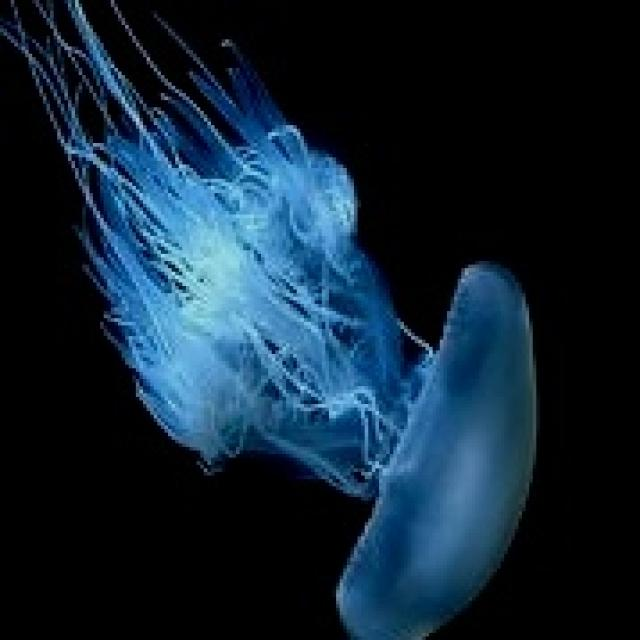Moon-jellyfish: (0, 0, 540, 636)
